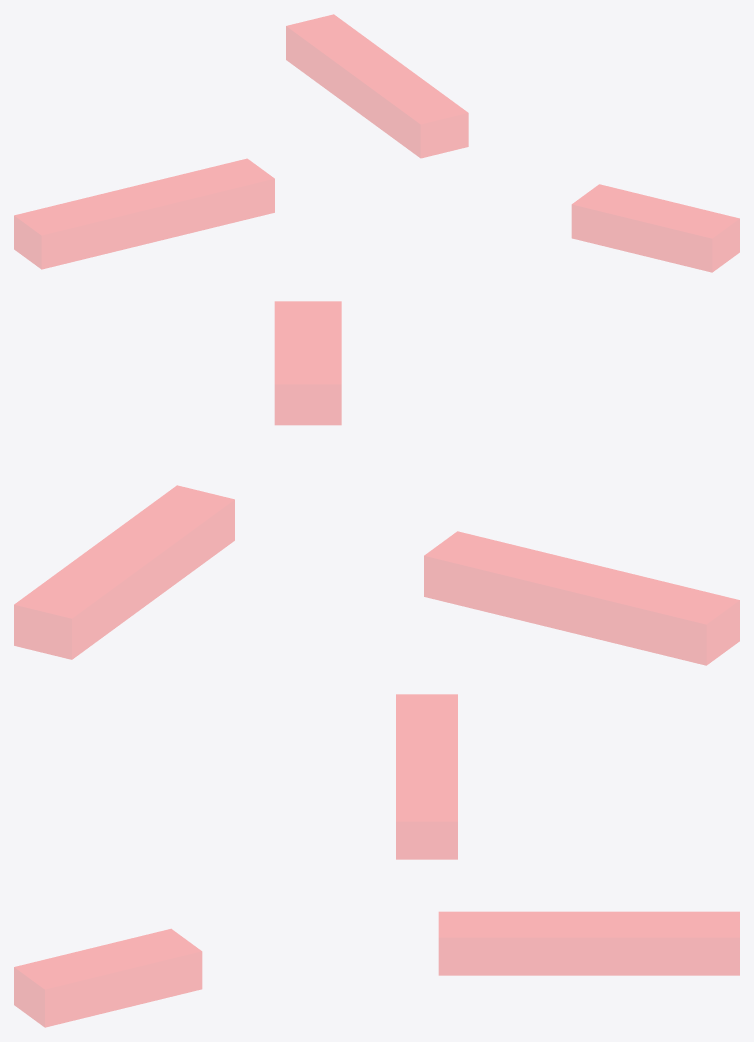
Rendered from s01a_td1-obstacles.glb.
3 renders of one model, top to bottom at view 1: azimuth 30°, elevation 25°; view 2: azimuth 150°, elevation 25°; view 3: azimuth 270°, elevation 25°, orthographic. The views are drawn at different scales.
Parts seen in each view (by area): view 1: boulder-colonly (×3); view 2: boulder-colonly (×3); view 3: boulder-colonly (×3).
Boxes of the visible parts, x1=… form: boulder-colonly (×3): x1=14, y1=14, x2=739, y2=272; boulder-colonly (×3): x1=14, y1=301, x2=739, y2=665; boulder-colonly (×3): x1=14, y1=694, x2=739, y2=1027.
Bounding box in the file's own units: 35.02 × 2.1 × 36.37.
